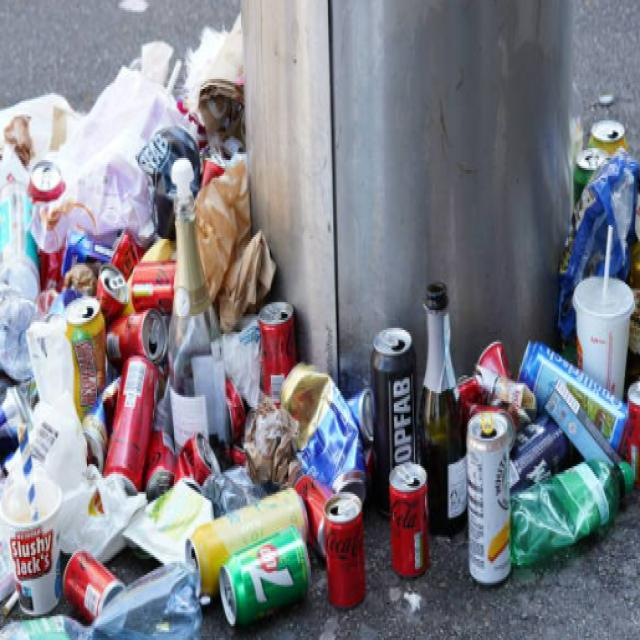GelasPlastik: (571, 262, 634, 409)
Kaleng: (183, 488, 320, 628), (5, 471, 67, 609), (467, 415, 516, 587), (107, 356, 161, 482), (374, 332, 416, 489), (65, 294, 116, 414), (386, 462, 434, 569), (327, 498, 368, 612), (263, 306, 301, 399)
KemasanPlastik: (564, 162, 640, 330), (186, 165, 274, 300)
